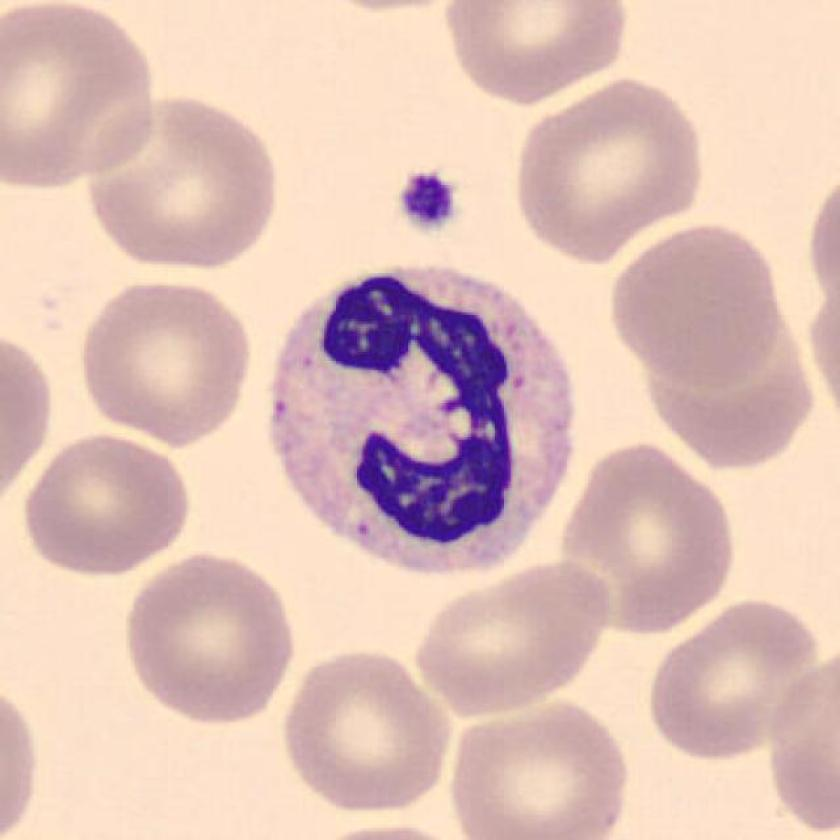neutrophil: (273, 268, 572, 570)
